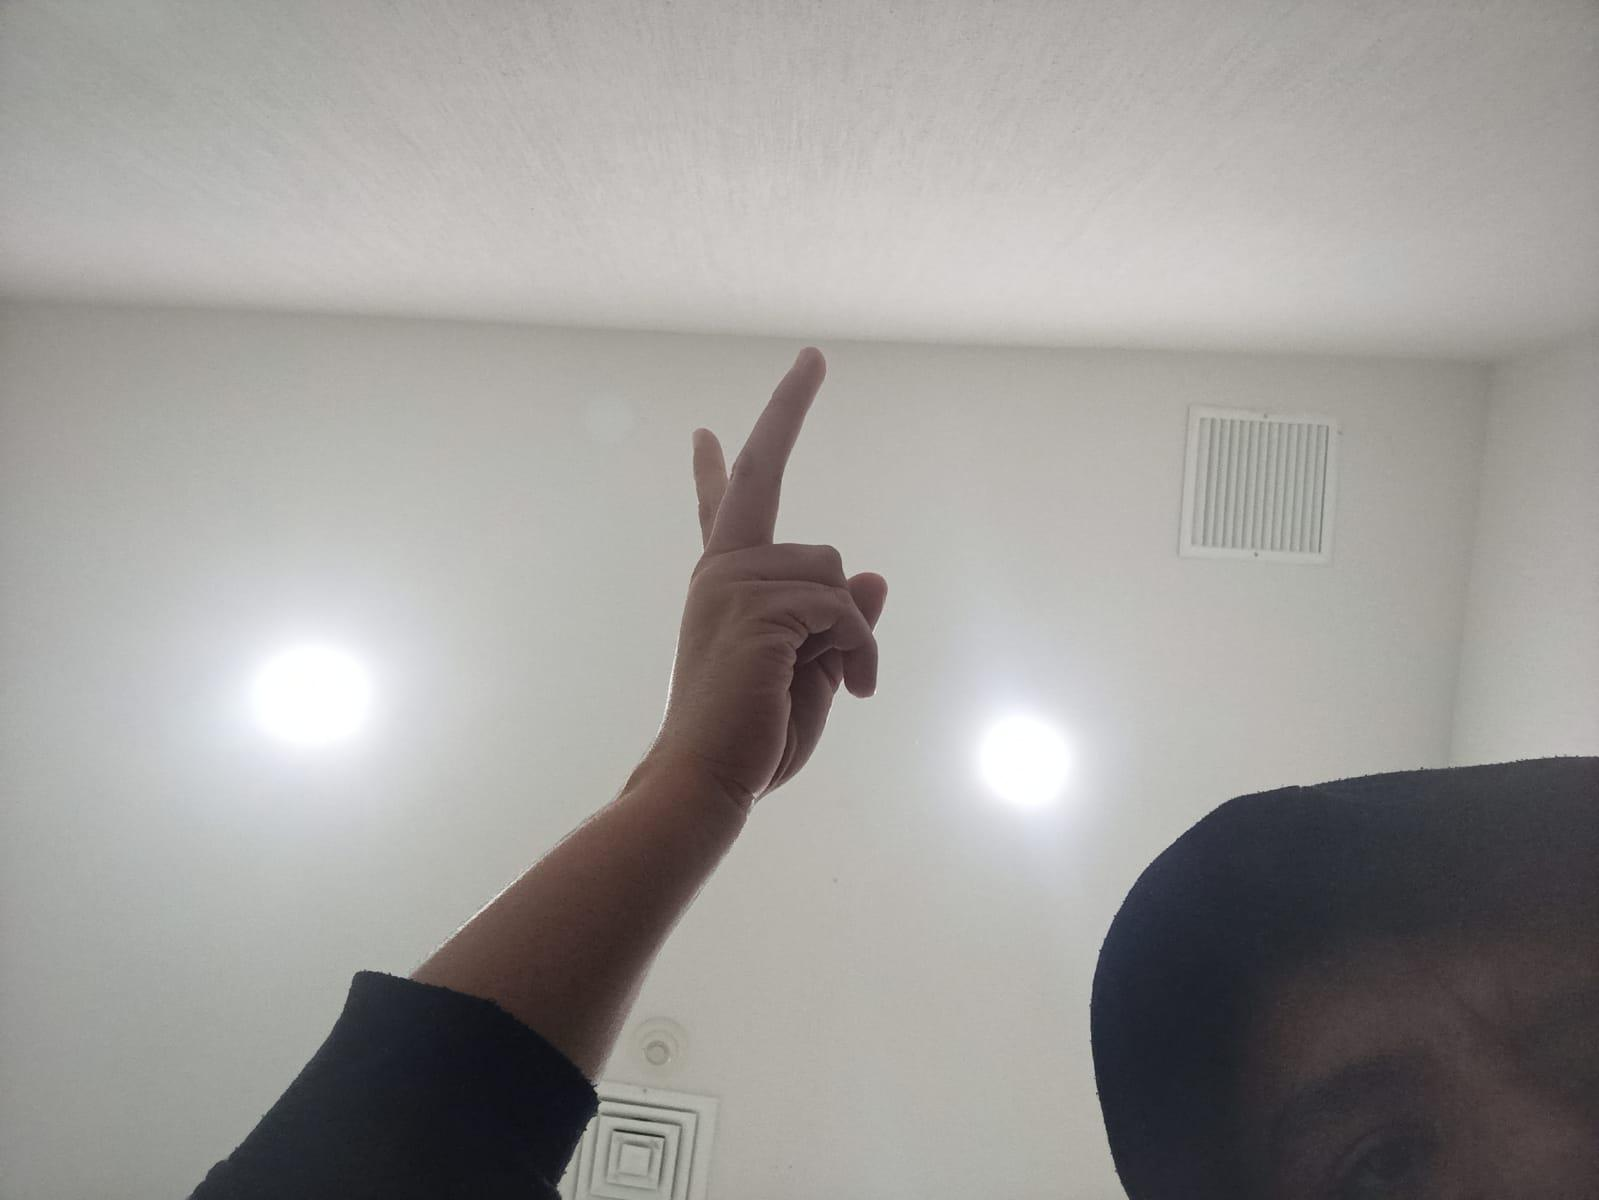Scissor: (575, 332, 968, 826)
